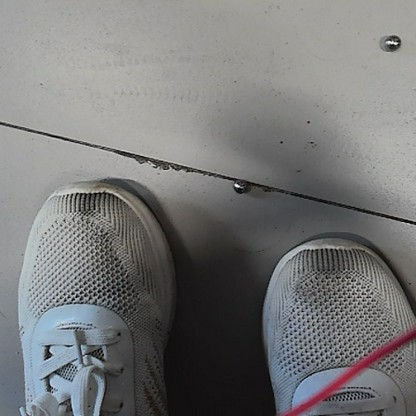ironball: (381, 31, 403, 52), (231, 176, 247, 194)
